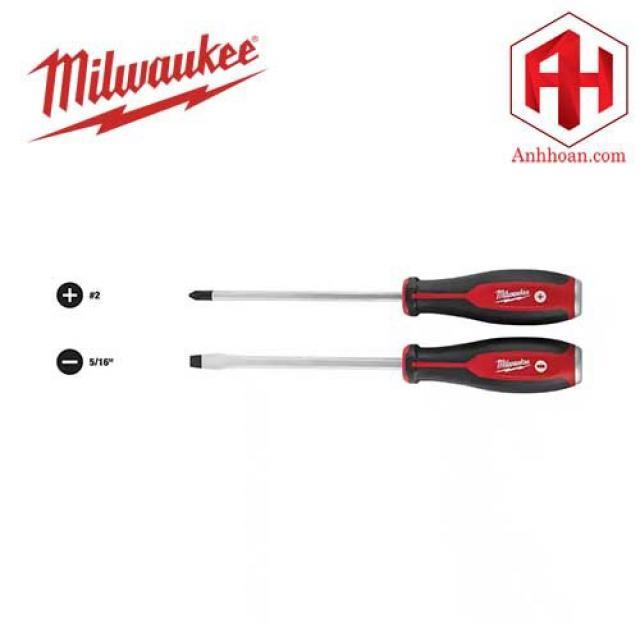screwdriver: (187, 332, 585, 399), (182, 266, 584, 328)
